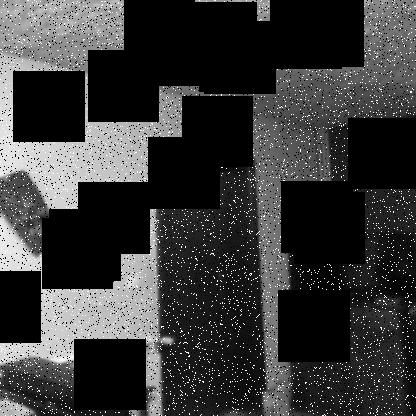Porte: (149, 140, 271, 416)
